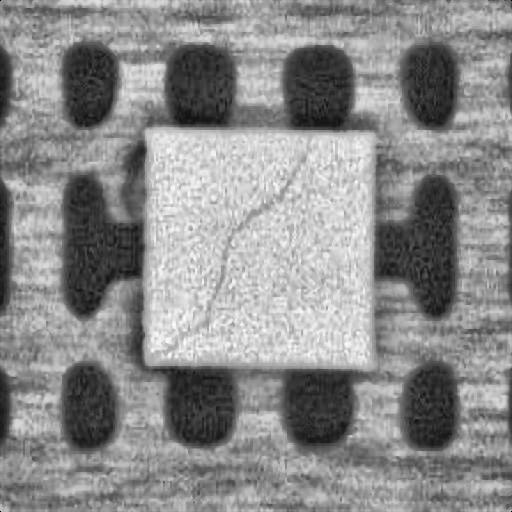DIE_CRACK: (172, 133, 312, 345)
